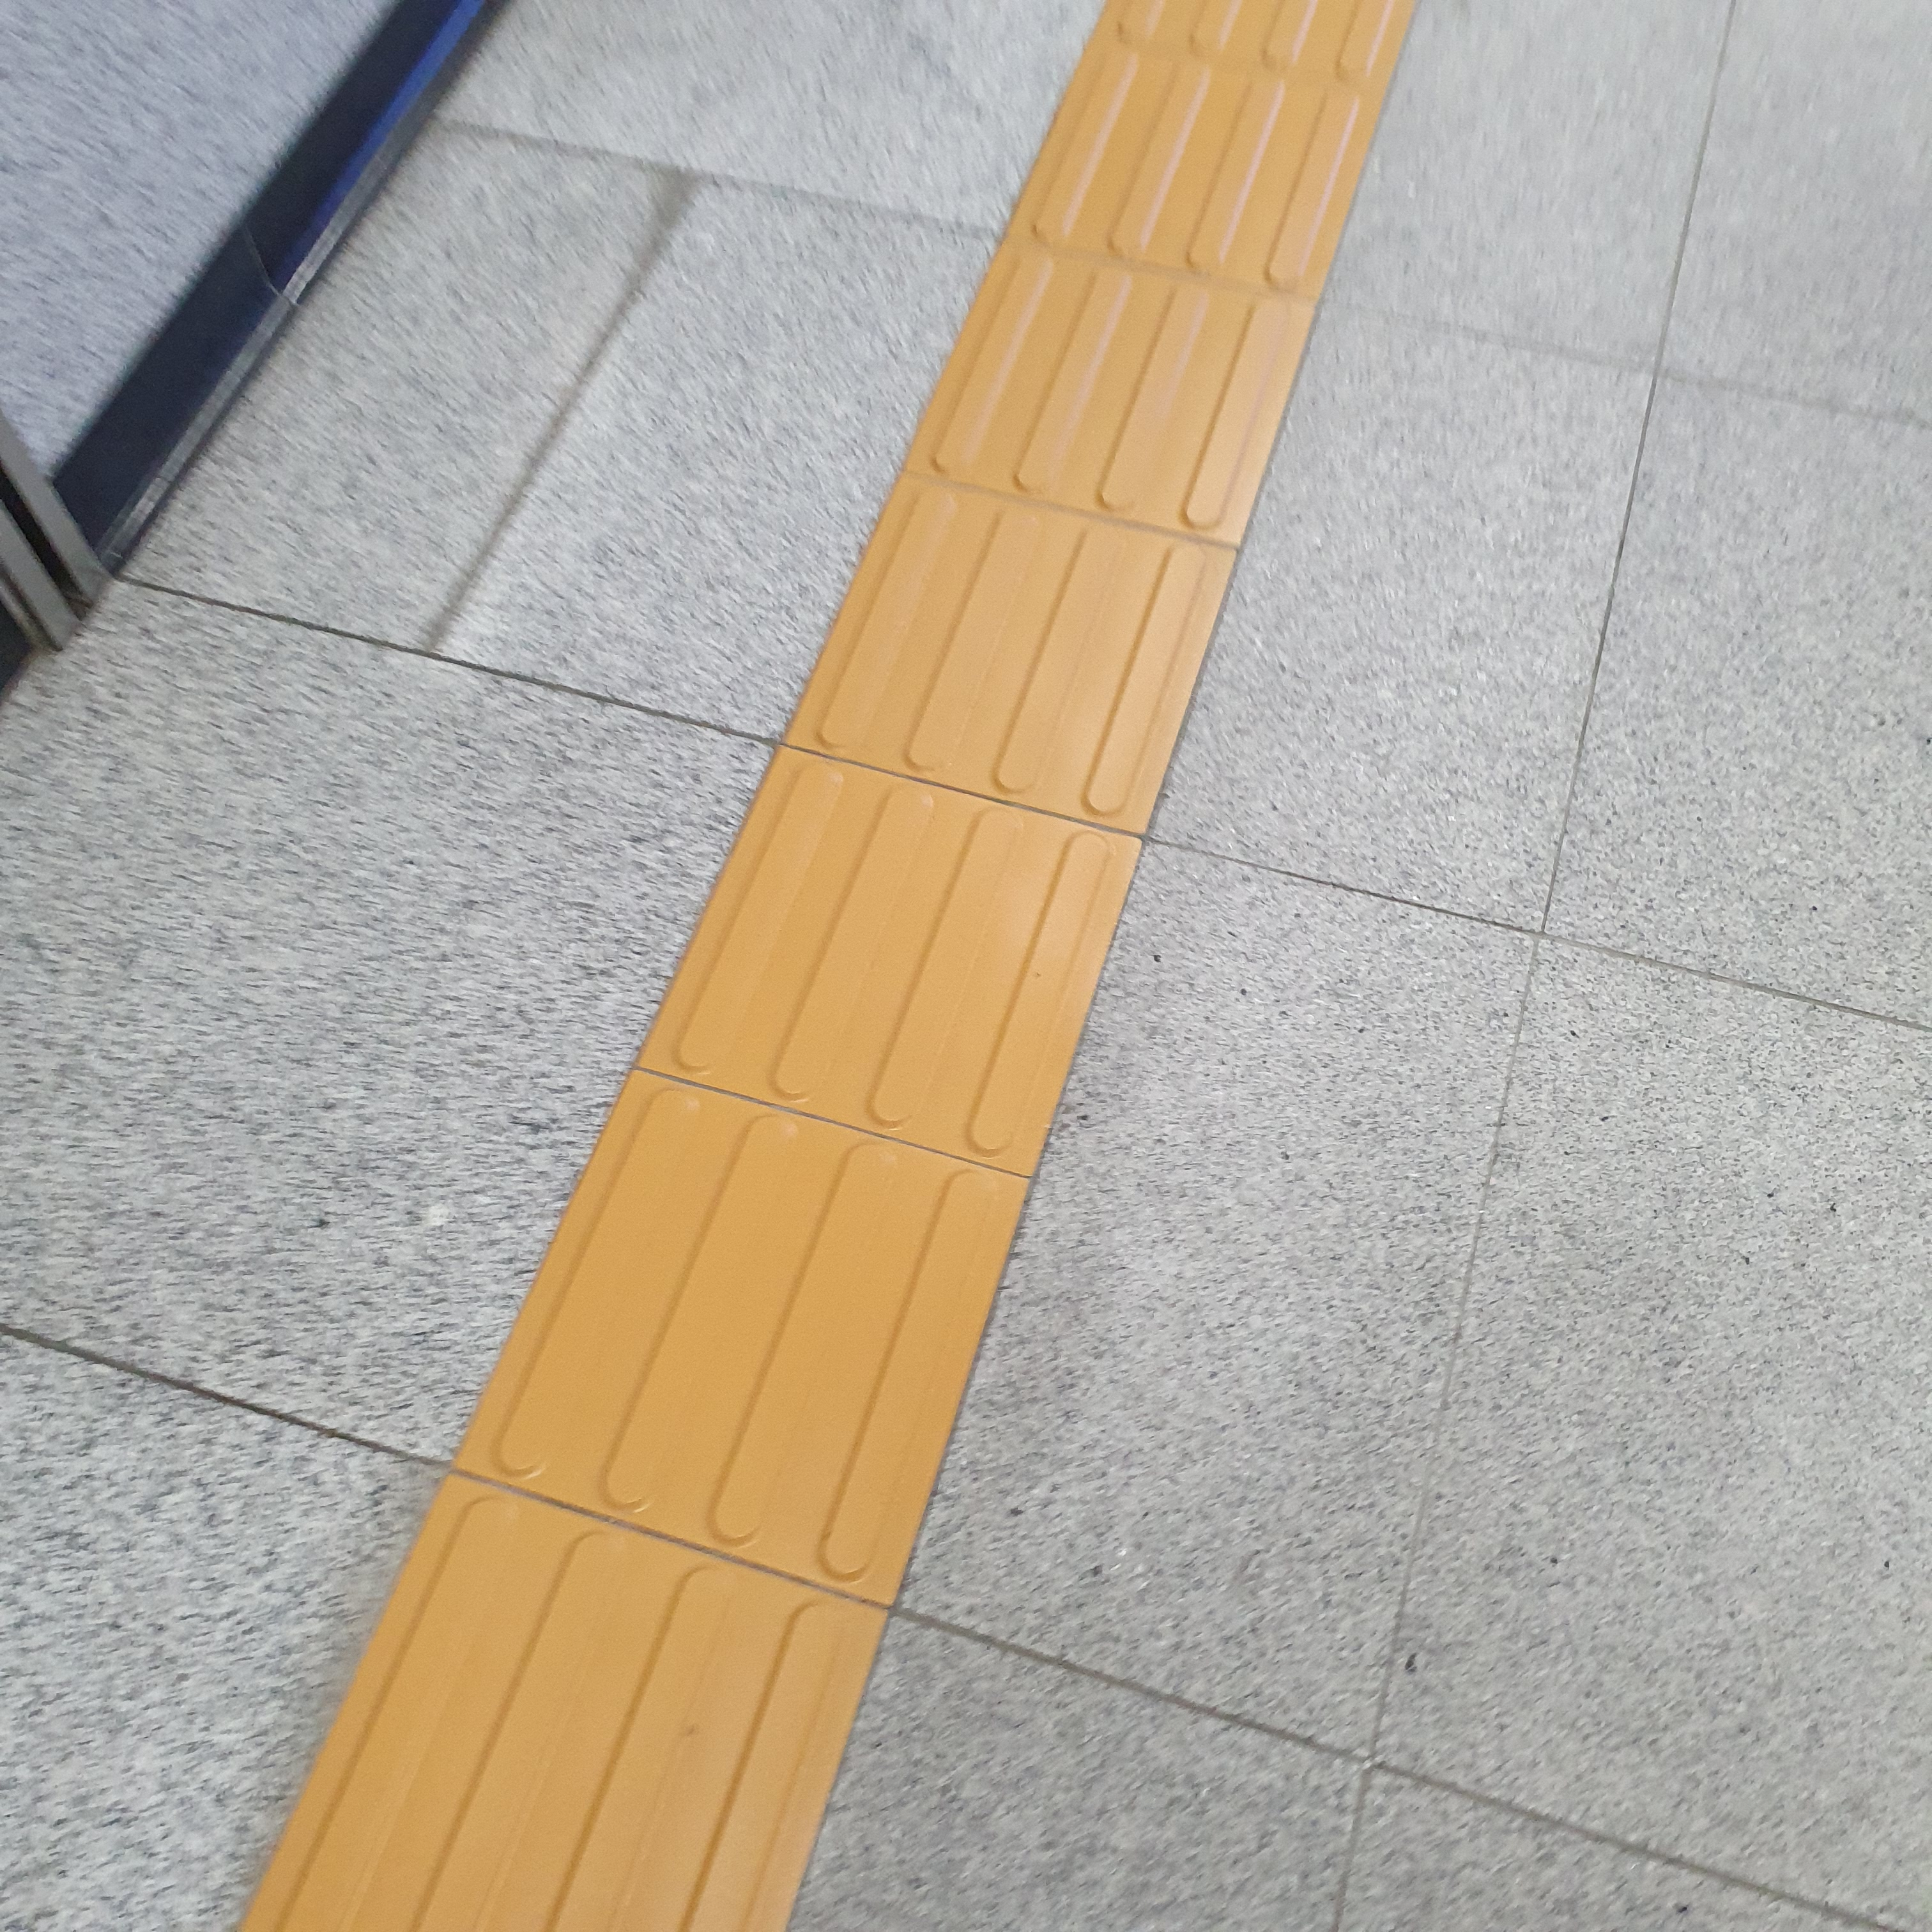guideBlock: (407, 1522, 803, 1932), (580, 1072, 916, 1546), (743, 748, 1079, 1085), (874, 524, 1194, 853), (998, 241, 1256, 494), (1072, 51, 1348, 265)
